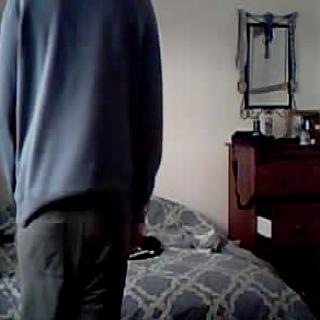Blue Hoodie: (0, 0, 166, 220)
Gray Sweatpants: (1, 205, 145, 320)
